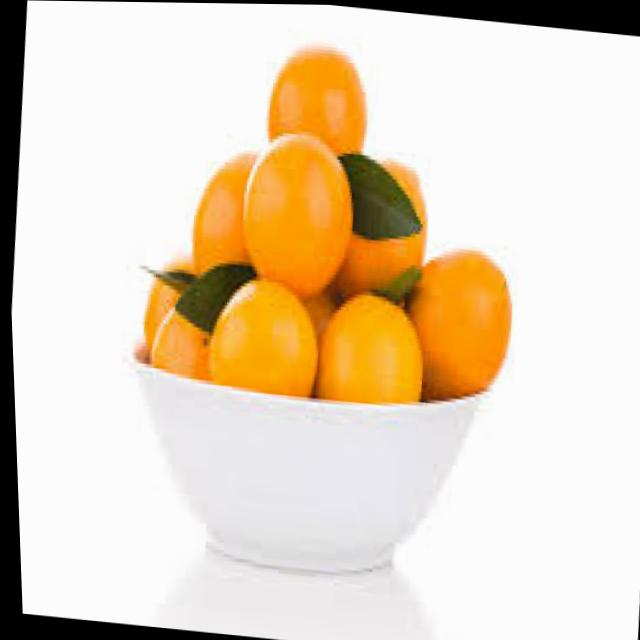orange: (234, 128, 363, 305), (395, 242, 515, 404), (326, 151, 432, 302), (201, 271, 322, 397), (308, 287, 426, 408), (261, 39, 370, 158), (184, 146, 264, 279), (144, 302, 212, 379)
